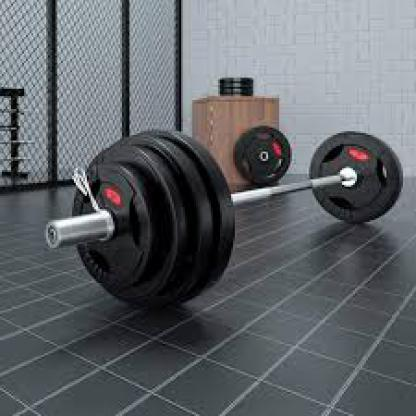Barbell: (72, 124, 240, 314), (308, 127, 406, 229)
